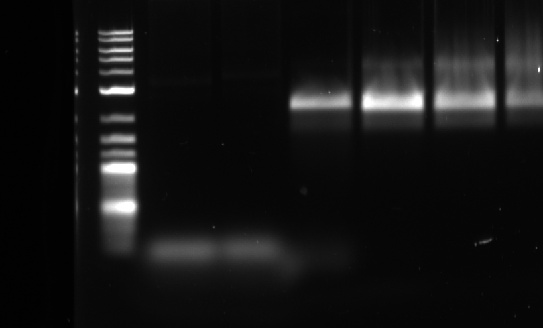Lane: (212, 28, 284, 328), (288, 28, 358, 325), (431, 20, 497, 328), (362, 25, 427, 326), (148, 22, 211, 325), (504, 18, 543, 328)
ladder: (94, 18, 140, 314)
